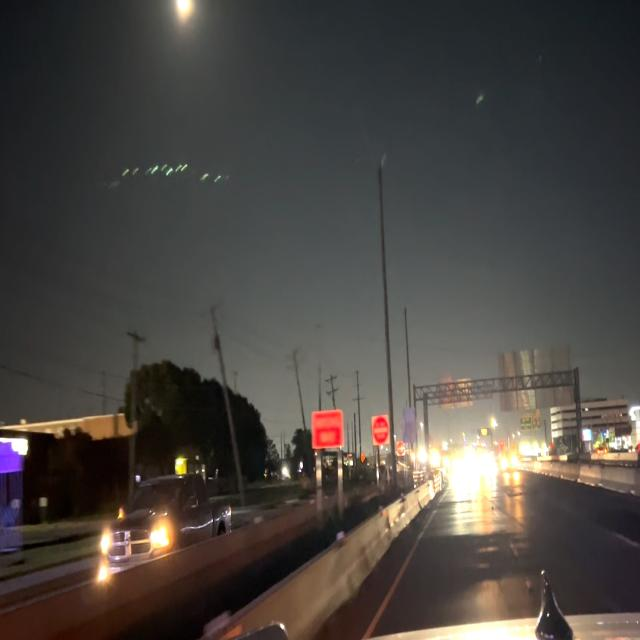back-of-sign: (498, 347, 576, 406)
